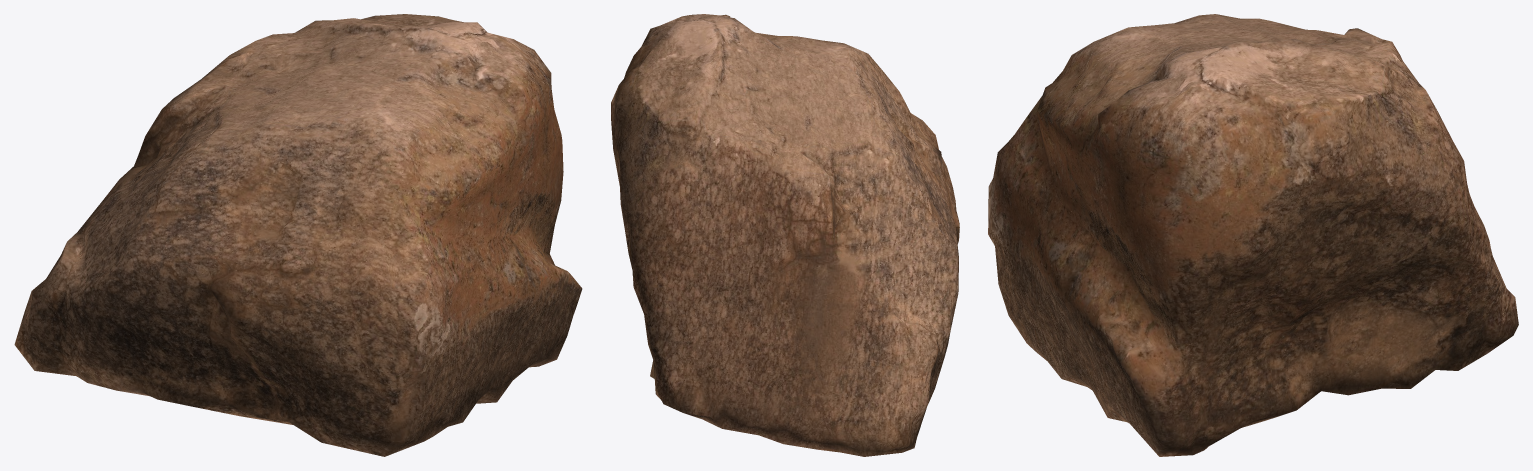
File: mars-boulder-namaqualand-04.glb
3 renders of one model, left to right at view 1: azimuth 30°, elevation 25°; view 2: azimuth 150°, elevation 25°; view 3: azimuth 270°, elevation 25°, orthographic. The views are drawn at different scales.
Parts seen in each view (by area): view 1: mars-boulder-namaqualand-04_LOD0; view 2: mars-boulder-namaqualand-04_LOD0; view 3: mars-boulder-namaqualand-04_LOD0.
Boxes of the visible parts, x1,y1,x2,y2 form: mars-boulder-namaqualand-04_LOD0: (14,14,582,456); mars-boulder-namaqualand-04_LOD0: (611,14,959,456); mars-boulder-namaqualand-04_LOD0: (988,14,1518,456).
Size of what is drawn, in the model's own units: 2.19 by 1.64 by 2.17.
1 material, 1 textured.
